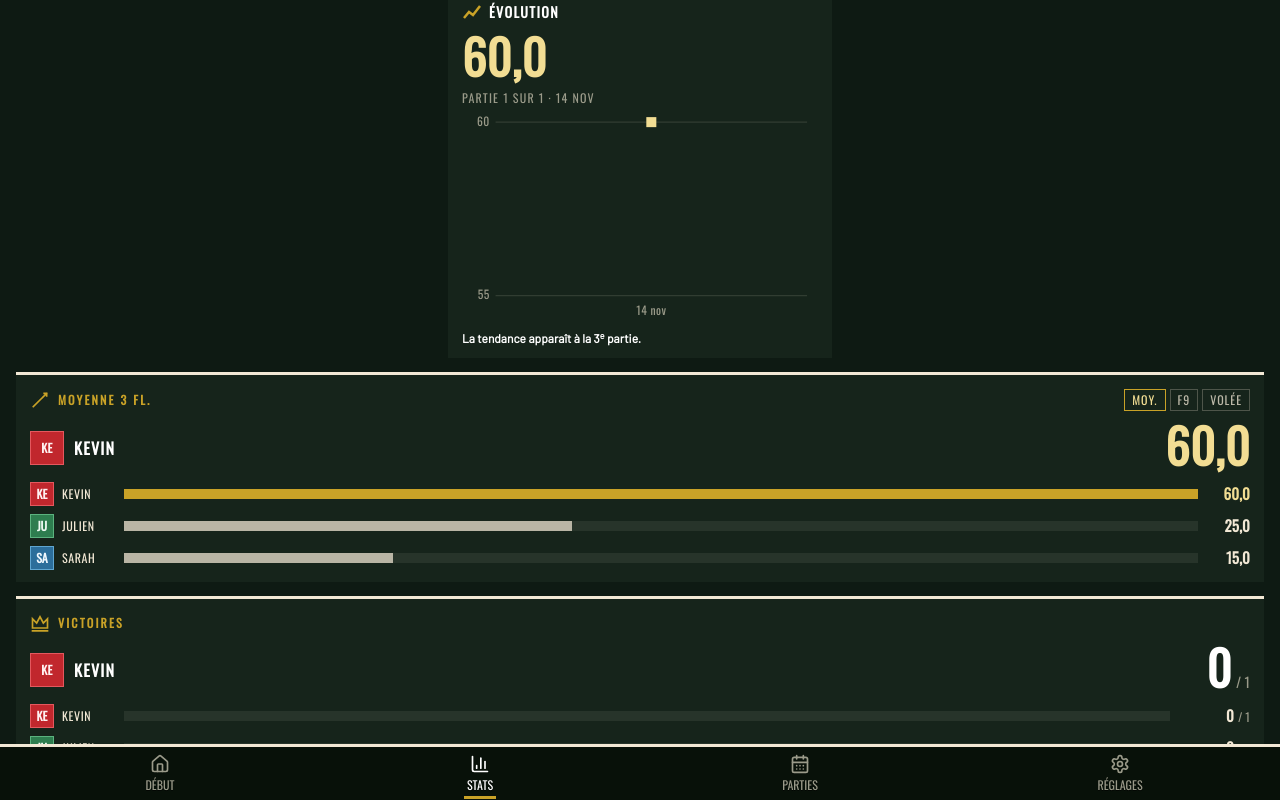
Test case: Statistiques — les cartes du podium › la bascule de Moyenne reclasse la carte et change son titre
This screenshot has width=1280, height=800.
(page scrolled)
Click the button with aria-label "Volée, Meilleure volée". click: (1226, 400)
box: [1202, 389, 1250, 411]
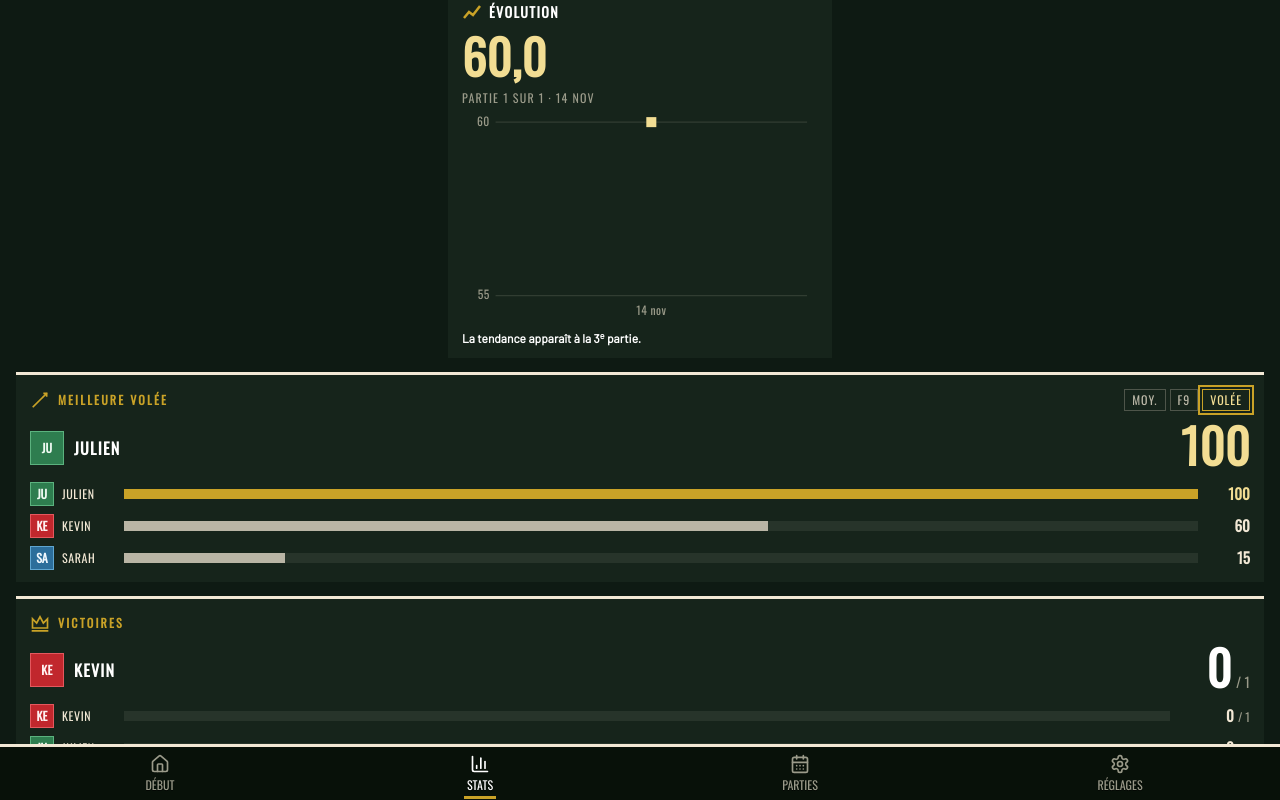
Click the button named "F9, First 9". click: (1184, 400)
box: [1170, 389, 1198, 411]
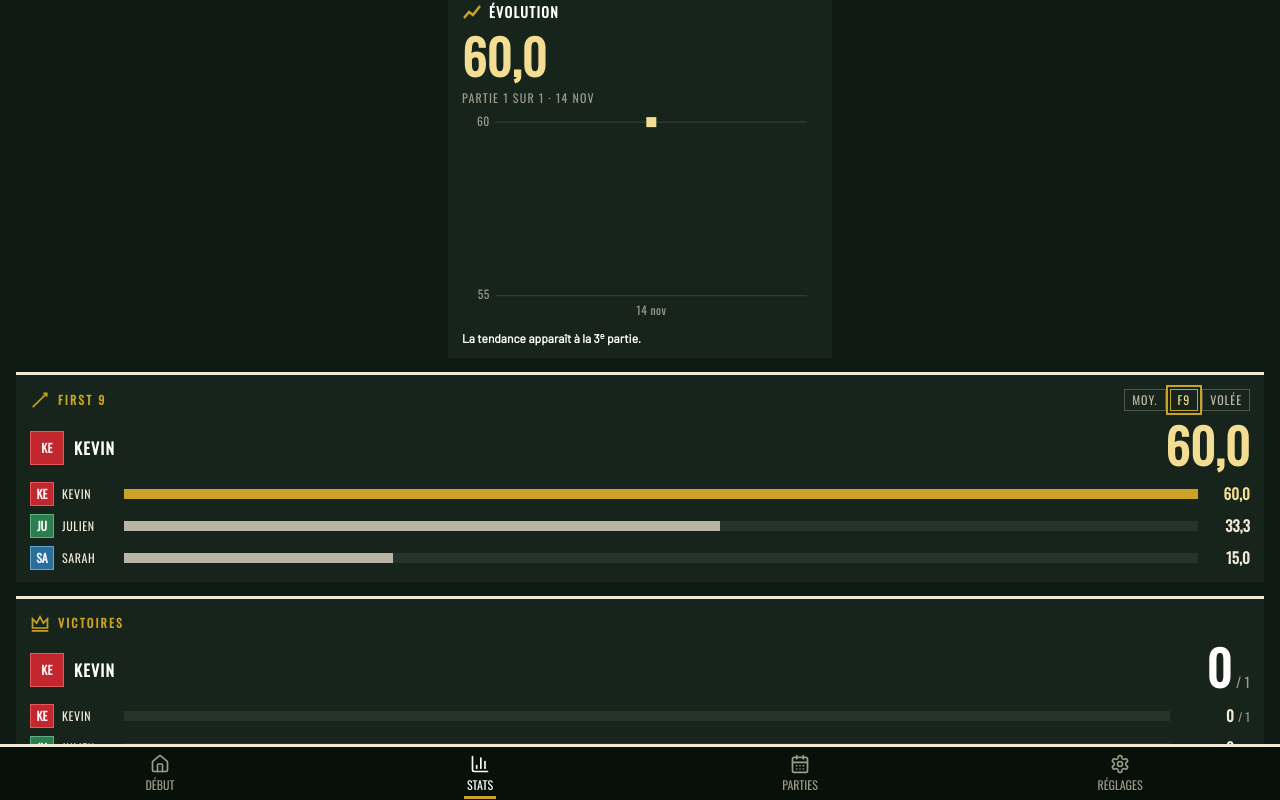
Now the element "First 9" shows "33,3", box [1225, 514, 1250, 536]
